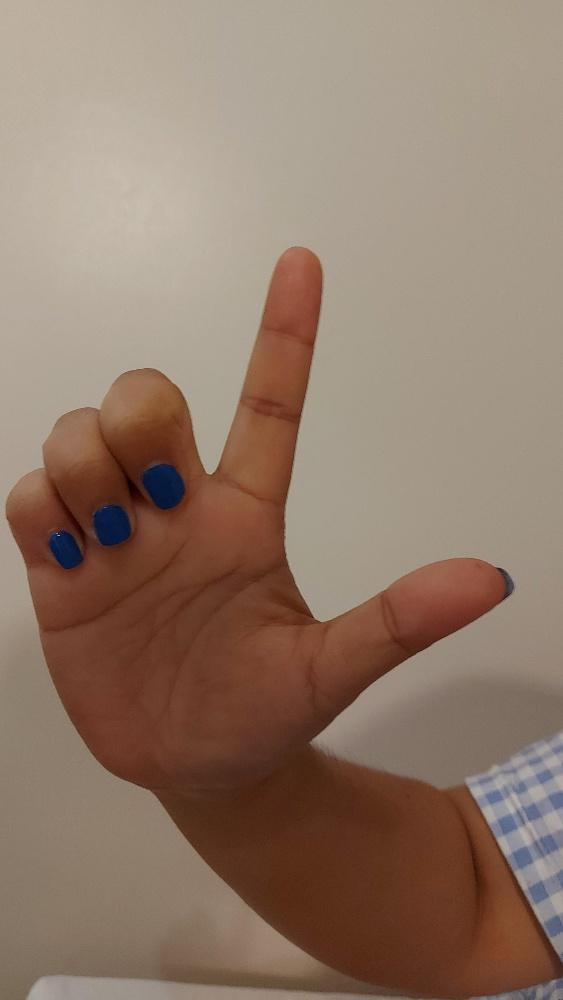l: (4, 243, 518, 790)
